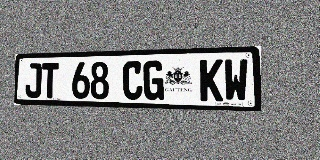6: (72, 62, 90, 99)
8: (90, 61, 109, 99)
C: (123, 61, 143, 100)
G: (143, 60, 164, 100)
J: (25, 63, 42, 98)
K: (200, 59, 223, 101)
T: (42, 63, 59, 98)
W: (224, 59, 248, 102)
